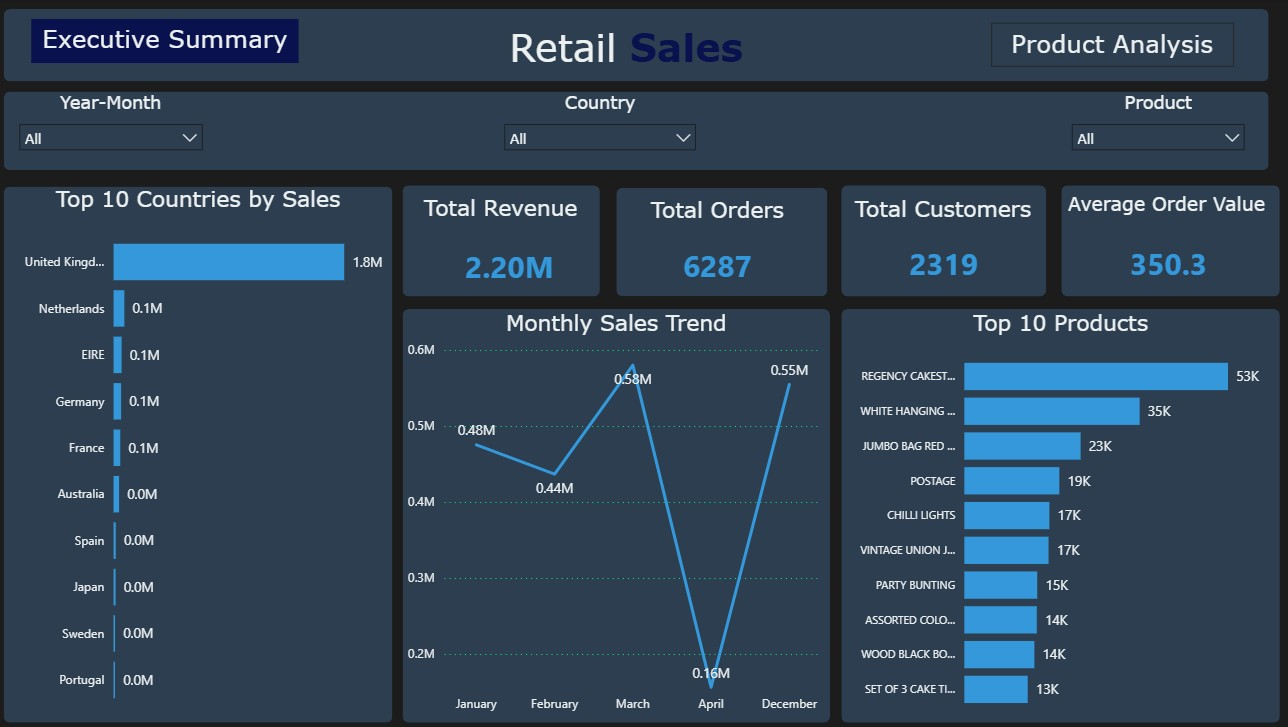

The dashboard page shown, as its layout file describes it:
{"tool":"powerbi","page":{"name":"overview","canvas":[1280,720],"ordinal":0},"visuals":[{"type":"shape","box":[13.5,9.8,1241.7,71.2],"z":0},{"type":"shape","box":[835.6,182.8,201.2,109.2],"z":0},{"type":"shape","box":[1051.5,182.8,214.7,109.2],"z":0},{"type":"shape","box":[614.7,185.3,207.4,106.7],"z":0},{"type":"shape","box":[13.5,90.8,1241.7,77.3],"z":1000},{"type":"shape","box":[404.9,182.8,193.9,109.2],"z":1000},{"type":"textbox","box":[1036.8,185.3,229.4,41.7],"z":1000},{"type":"textbox","box":[835.6,187.7,200,40.5],"z":1000},{"type":"shape","box":[13.5,184.1,381.6,526.4],"z":2000},{"type":"card","fields":{"Values":["db_retail cleaned_sale.Total customers"]},"box":[879.8,236.8,112.9,47.9],"z":2000},{"type":"card","fields":{"Values":["db_retail cleaned_sale.Average oreder values"]},"box":[1101.8,236.8,110.4,47.9],"z":2000},{"type":"shape","box":[404.9,304.3,419.6,406.1],"z":3000},{"type":"shape","box":[835.6,304.3,430.7,406.1],"z":4000},{"type":"lineChart","title":"Monthly Sales Trend","fields":{"Y":["db_retail cleaned_sale.Total revenue"],"Category":["db_retail cleaned_sale.Invoice_dt.Variation.Date Hierarchy.Month"]},"box":[404.9,304.3,419.6,406.1],"z":8000},{"type":"clusteredBarChart","title":"Top 10 Products","fields":{"Category":["db_retail cleaned_sale.Descr_iption"],"Y":["db_retail cleaned_sale.Total revenue"]},"box":[835.6,304.3,430.7,406.1],"z":9000},{"type":"textbox","box":[412.3,186.5,177.9,40.5],"z":9001},{"type":"textbox","box":[634.4,189,159.5,40.5],"z":9002},{"type":"card","fields":{"Values":["db_retail cleaned_sale.Total revenue"]},"box":[454,240.5,111.7,45.4],"z":9006},{"type":"card","fields":{"Values":["db_retail cleaned_sale.total orders"]},"box":[666.3,239.3,95.7,45.4],"z":9008},{"type":"clusteredBarChart","title":"Top 10 Countries by Sales","fields":{"Y":["db_retail cleaned_sale.Total revenue"],"Category":["db_retail cleaned_sale.Country"]},"box":[13.5,182.8,381.6,527.6],"z":10000},{"type":"slicer","title":"Country","fields":{"Values":["db_retail cleaned_sale.Country"]},"box":[494.5,90.8,208.6,77.3],"z":11000},{"type":"slicer","title":"Year-Month","fields":{"Values":["db_retail cleaned_sale.Invoice_dt.Variation.Date Hierarchy.Year","db_retail cleaned_sale.Invoice_dt.Variation.Date Hierarchy.Month"]},"box":[18.4,90.8,200,77.3],"z":12000},{"type":"slicer","title":"Product","fields":{"Values":["db_retail cleaned_sale.Descr_iption"]},"box":[1051.5,90.8,190.2,77.3],"z":13000},{"type":"textbox","box":[494.5,19.6,260.1,61.4],"z":14000},{"type":"textbox","box":[40.5,19.6,262.6,42.9],"z":15000},{"type":"textbox","box":[982.8,23.3,238,42.9],"z":16000},{"type":"actionButton","box":[982.8,23.3,238,42.9],"z":17000}]}

Visuals, with their boxes in screenshot pixels (x1, y1, x2, y2), scaled from the page's 1280x720 canvas onto the 1288x727 screenshot:
shape: <box>14,10,1263,82</box>
shape: <box>841,185,1043,295</box>
shape: <box>1058,185,1274,295</box>
shape: <box>619,187,827,295</box>
shape: <box>14,92,1263,170</box>
shape: <box>407,185,603,295</box>
textbox: <box>1043,187,1274,229</box>
textbox: <box>841,190,1042,230</box>
shape: <box>14,186,398,717</box>
card - db_retail cleaned_sale.Total customers: <box>885,239,999,287</box>
card - db_retail cleaned_sale.Average oreder values: <box>1109,239,1220,287</box>
shape: <box>407,307,830,717</box>
shape: <box>841,307,1274,717</box>
"Monthly Sales Trend" lineChart: <box>407,307,830,717</box>
"Top 10 Products" clusteredBarChart: <box>841,307,1274,717</box>
textbox: <box>415,188,594,229</box>
textbox: <box>638,191,799,232</box>
card - db_retail cleaned_sale.Total revenue: <box>457,243,569,289</box>
card - db_retail cleaned_sale.total orders: <box>670,242,767,287</box>
"Top 10 Countries by Sales" clusteredBarChart: <box>14,185,398,717</box>
"Country" slicer: <box>498,92,707,170</box>
"Year-Month" slicer: <box>19,92,220,170</box>
"Product" slicer: <box>1058,92,1249,170</box>
textbox: <box>498,20,759,82</box>
textbox: <box>41,20,305,63</box>
textbox: <box>989,24,1228,67</box>
actionButton: <box>989,24,1228,67</box>
